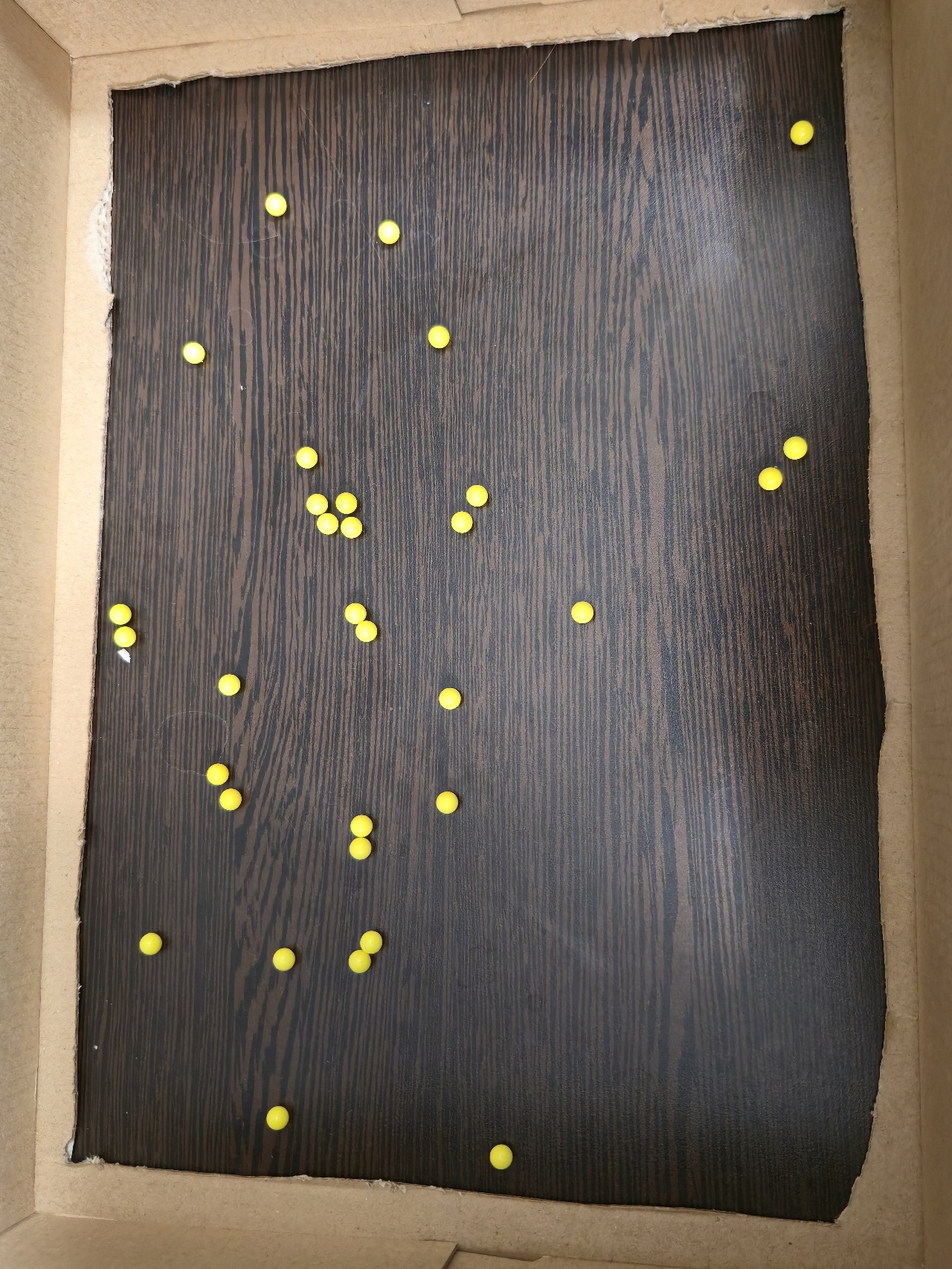yellow_bead: (788, 442, 802, 454), (496, 1151, 507, 1164), (113, 609, 126, 620), (433, 330, 444, 343), (278, 954, 289, 966), (365, 937, 377, 948), (576, 607, 588, 618), (322, 518, 333, 530), (354, 957, 365, 968), (145, 939, 156, 950), (356, 821, 367, 832), (361, 626, 372, 637), (350, 608, 361, 619), (346, 522, 357, 533), (312, 499, 323, 510), (341, 498, 352, 509), (118, 632, 130, 642), (764, 475, 776, 485), (797, 126, 805, 140), (355, 844, 365, 855), (442, 798, 452, 809), (445, 693, 455, 704), (223, 680, 234, 690), (472, 491, 483, 501), (225, 795, 235, 805), (457, 517, 467, 527), (271, 1113, 279, 1125), (212, 771, 220, 780), (302, 452, 312, 459), (393, 234, 394, 236), (280, 208, 281, 208)
